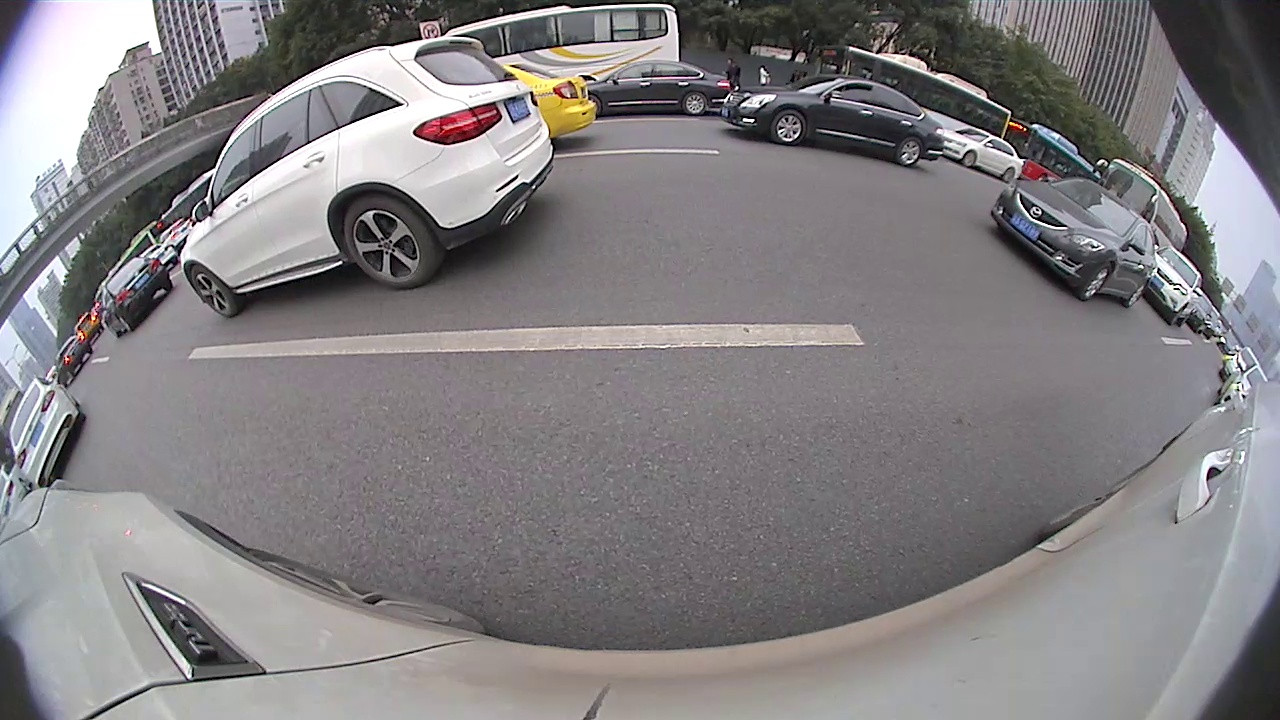bus: (808, 40, 1015, 141), (440, 6, 683, 86), (1088, 150, 1189, 256)
car: (181, 34, 556, 317), (989, 176, 1156, 307), (720, 76, 949, 166), (492, 59, 599, 146), (578, 59, 736, 115), (8, 374, 85, 486), (101, 257, 173, 335), (937, 123, 1024, 183), (1144, 245, 1202, 328), (54, 334, 97, 382)
front: (188, 266, 236, 318), (1080, 263, 1110, 303), (773, 109, 804, 144), (962, 151, 976, 168)
rear: (344, 197, 428, 289), (895, 137, 923, 166), (1127, 281, 1147, 310), (684, 91, 705, 116), (1003, 168, 1016, 183)
